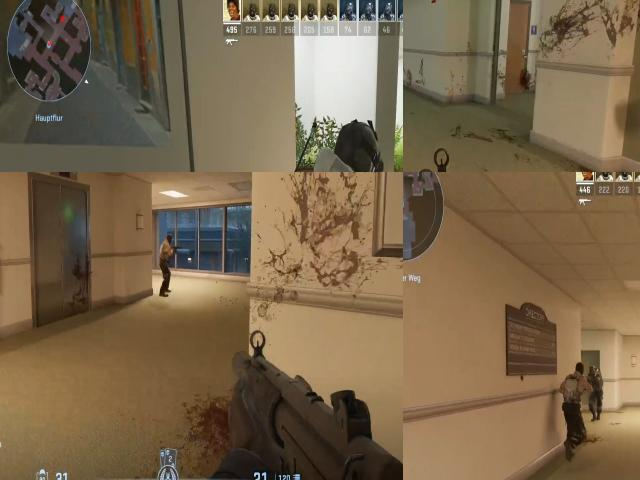CT: (589, 364, 609, 413)
CT-Head: (324, 110, 391, 172), (589, 364, 598, 374)
T: (560, 357, 590, 416), (158, 227, 178, 270)
T-Head: (569, 361, 584, 381), (163, 232, 175, 248)
